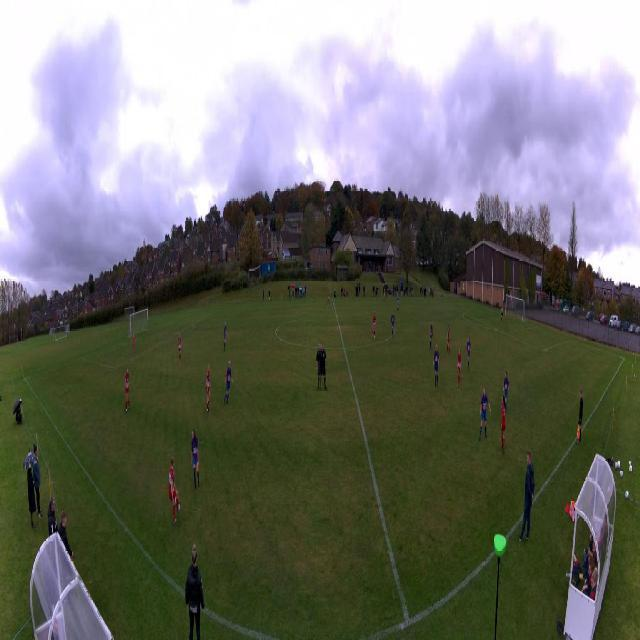player: (169, 456, 180, 525), (190, 427, 201, 491), (479, 389, 490, 441), (316, 343, 327, 392), (224, 363, 233, 404), (500, 395, 506, 453), (125, 365, 131, 414), (433, 345, 440, 385), (503, 372, 510, 409), (206, 366, 212, 408), (457, 349, 462, 387), (466, 337, 471, 368), (371, 312, 376, 339), (446, 326, 450, 354), (178, 334, 182, 362), (429, 322, 433, 349), (391, 312, 395, 336), (224, 322, 227, 350), (132, 334, 136, 353), (327, 292, 331, 308), (383, 290, 386, 302), (397, 296, 399, 313), (501, 306, 503, 323)
